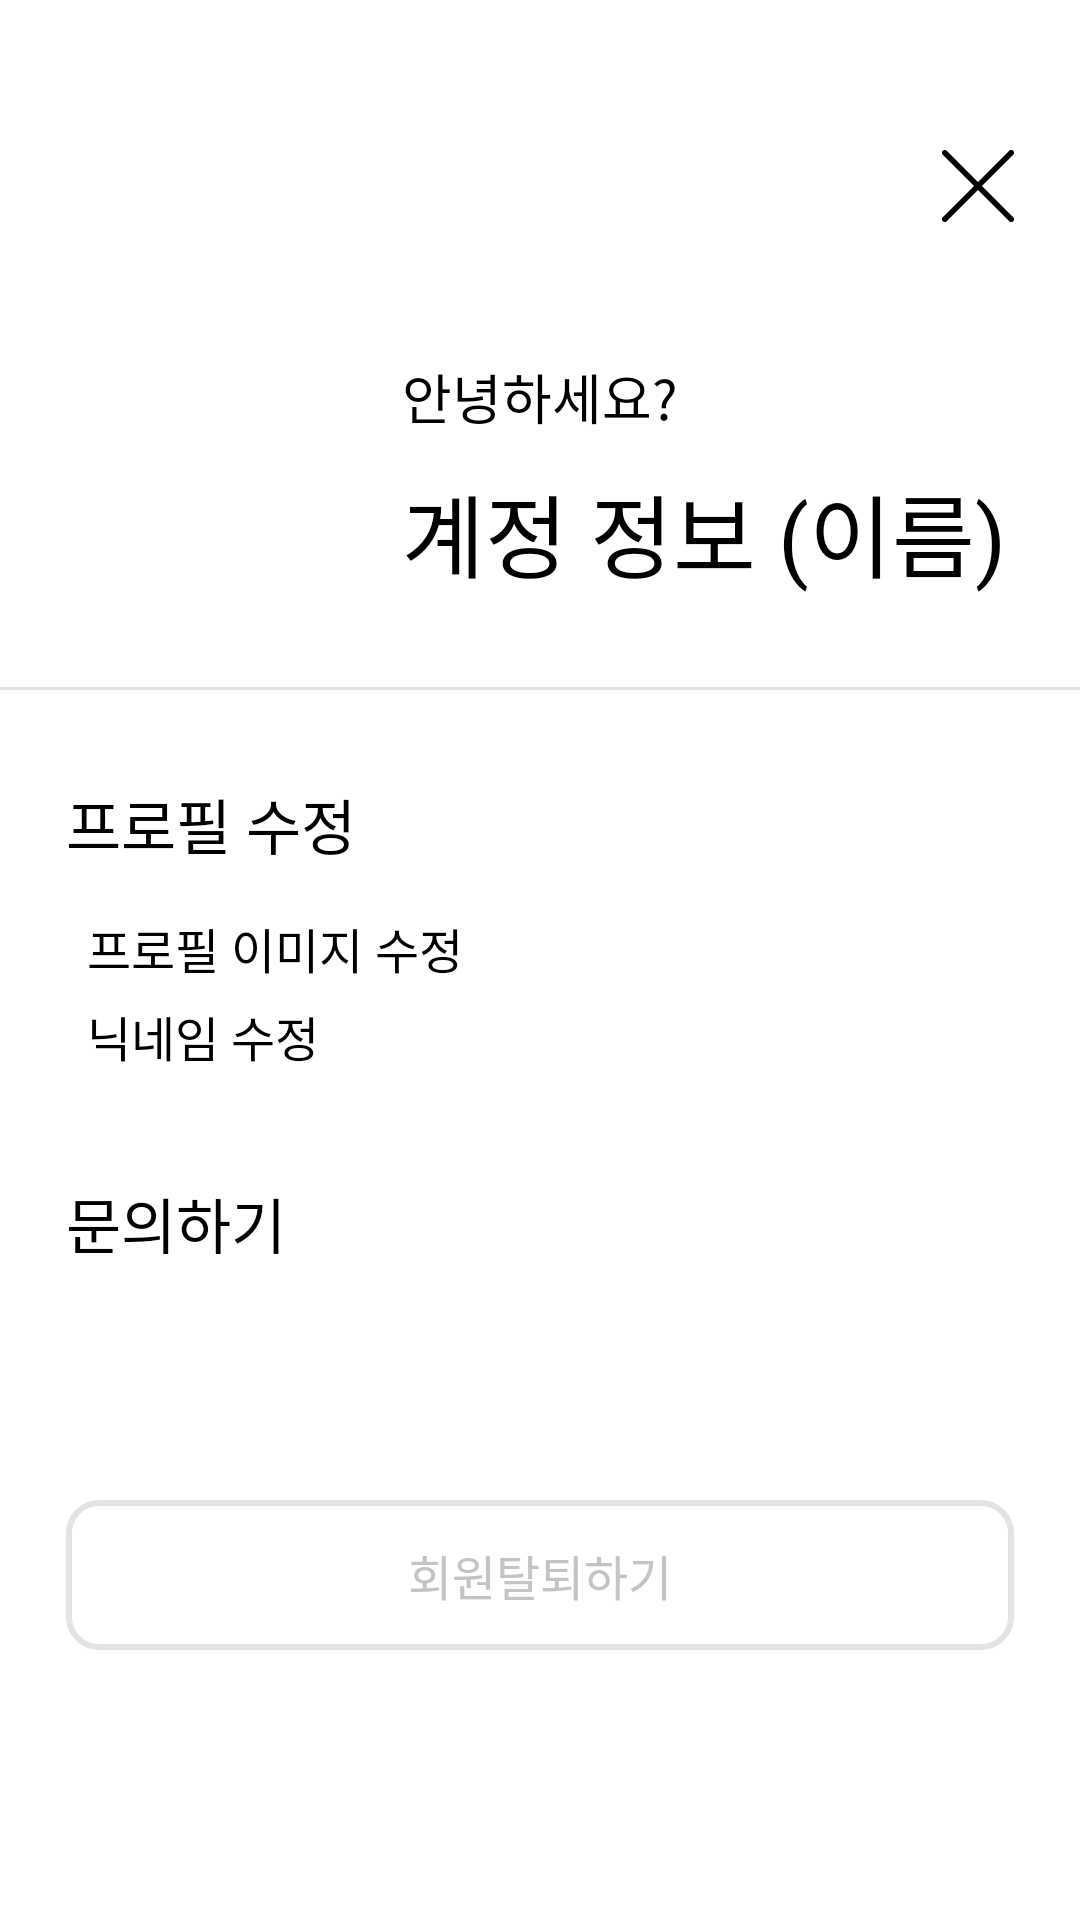

Icon bounding boxes for this 1080px x 1920px phone screenshot, format bbox=(x1, y1, x2, y2):
close: bbox=(942, 150, 1014, 222)
